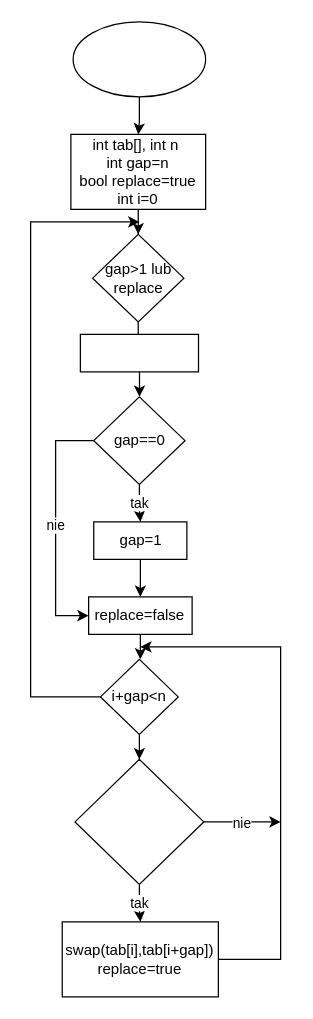
Image size: 313x1019. Some labels were removed from this diagram. The centre of each missing label's shape, as x and y in pixels:
gap=gap*10/13: pixel 138 352
Start: pixel 139 59
tab[i+gap]<tab[i]: pixel 139 821
